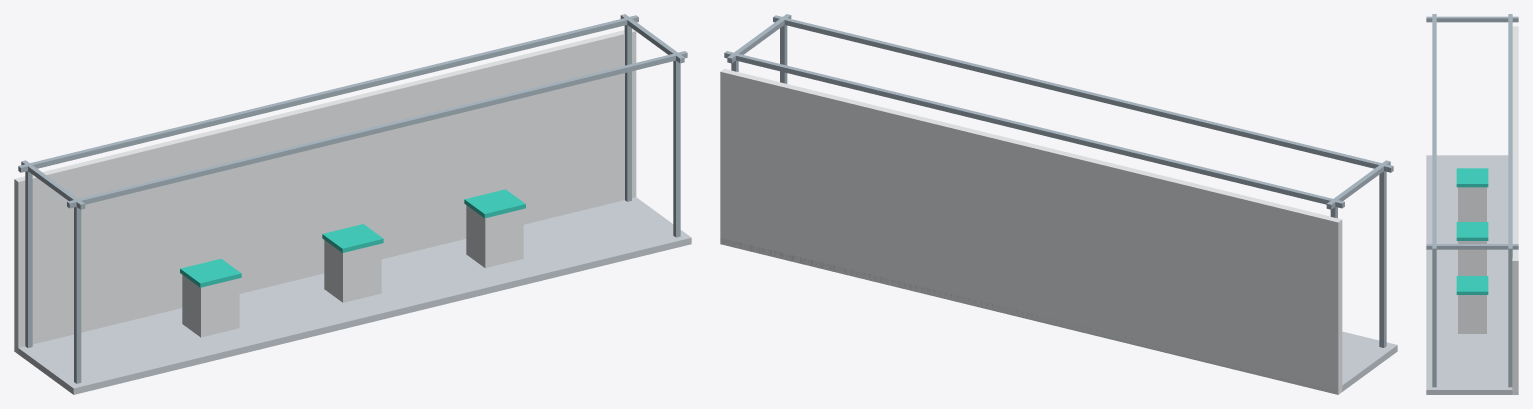
The picture shows the model from 3 angles, left to right: view 1: azimuth 30°, elevation 25°; view 2: azimuth 150°, elevation 25°; view 3: azimuth 270°, elevation 25°; orthographic projection. The views are drawn at different scales.
Parts seen in each view (by area): view 1: Exhibition Booth Concept; view 2: Exhibition Booth Concept; view 3: Exhibition Booth Concept.
Part boxes in pixels (x1,y1,x2,y2): Exhibition Booth Concept: (14, 14, 691, 394); Exhibition Booth Concept: (720, 14, 1397, 394); Exhibition Booth Concept: (1426, 14, 1518, 394).
Bounding box in the file's own units: 12 × 3.49 × 2.
